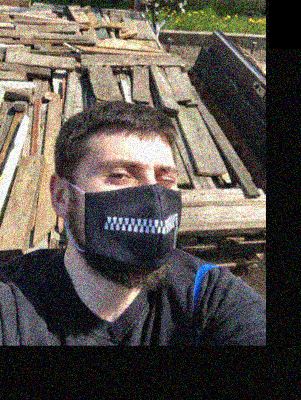with_mask: (79, 145, 181, 283)
